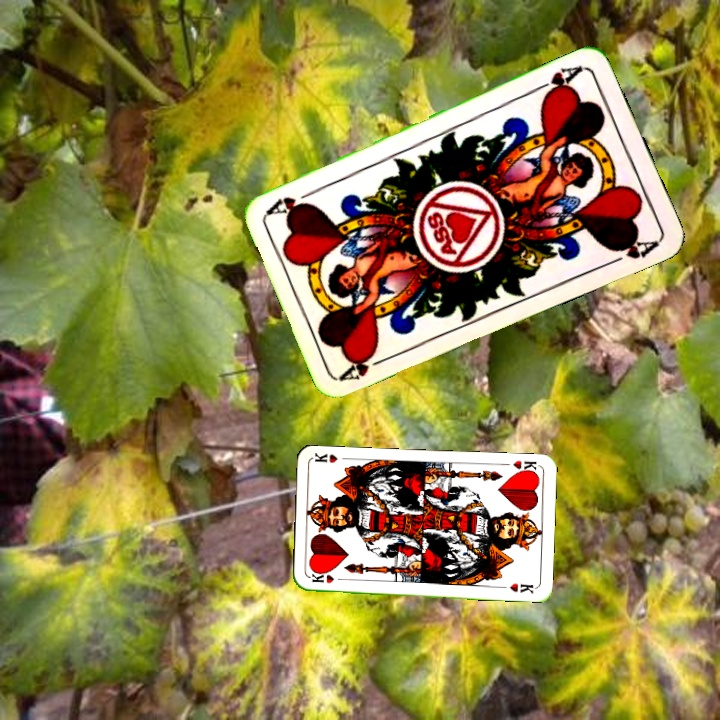HA: (530, 61, 586, 101), (337, 346, 395, 383)
HK: (308, 569, 348, 586), (509, 456, 540, 477)
